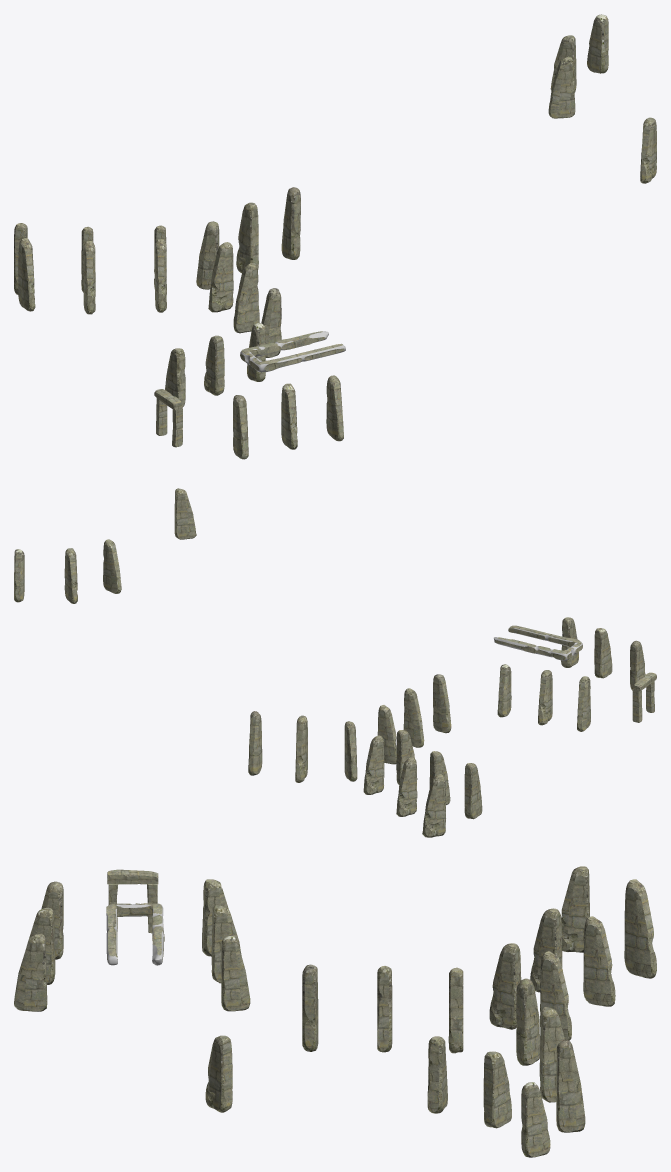
The model's file is SM_Chateaux_01_03.fbx.
The picture shows the model from 3 angles, top to bottom: view 1: azimuth 30°, elevation 25°; view 2: azimuth 150°, elevation 25°; view 3: azimuth 270°, elevation 25°; orthographic projection. The views are drawn at different scales.
Visible parts, largest first — view 1: SM_Chateaux_01_03; view 2: SM_Chateaux_01_03; view 3: SM_Chateaux_01_03.
Boxes of the visible parts, x1,y1,x2,y2 form: SM_Chateaux_01_03: [14, 14, 656, 459]; SM_Chateaux_01_03: [14, 488, 656, 837]; SM_Chateaux_01_03: [14, 866, 656, 1157].
Bounding box in the file's own units: 5369 × 1563 × 3893.
